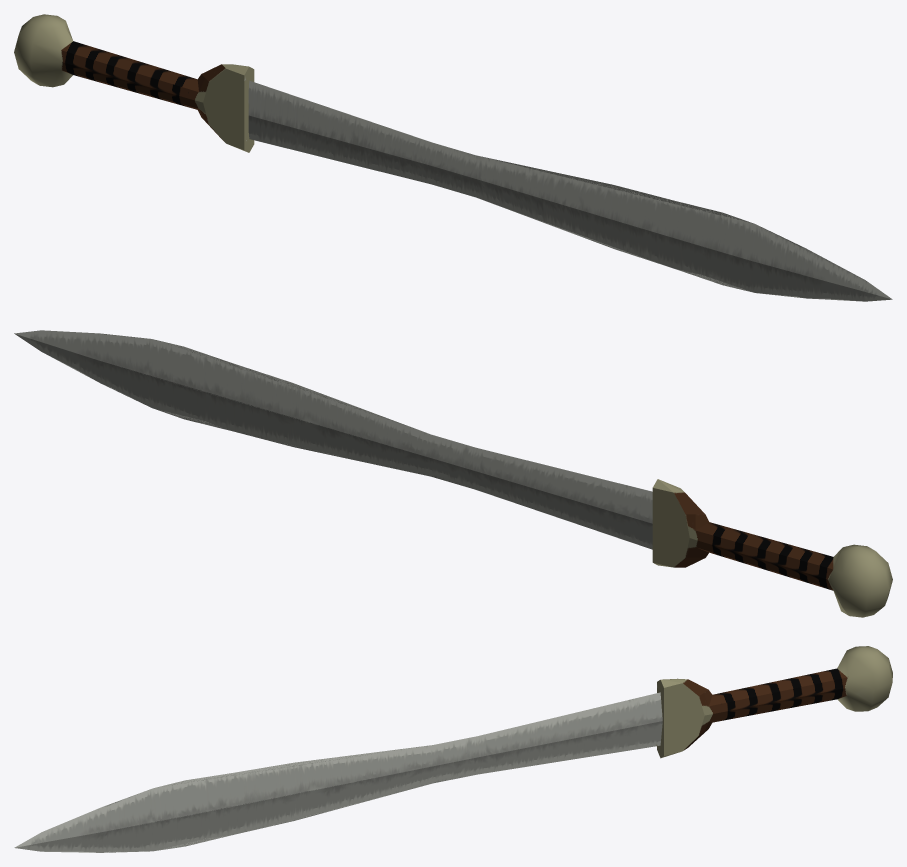
File: Gladius.gltf
The picture shows the model from 3 angles, top to bottom: view 1: azimuth 30°, elevation 25°; view 2: azimuth 210°, elevation 25°; view 3: azimuth 270°, elevation 25°; orthographic projection. The views are drawn at different scales.
Visible parts, largest first — view 1: Gladius; view 2: Gladius; view 3: Gladius.
Part boxes in pixels (x1=…): Gladius: x1=14, y1=14, x2=892, y2=301; Gladius: x1=14, y1=330, x2=892, y2=617; Gladius: x1=14, y1=646, x2=892, y2=852.
Bounding box in the file's own units: 0.6589 × 0.134 × 1.35.
Materials: 1 (1 with a texture image).
